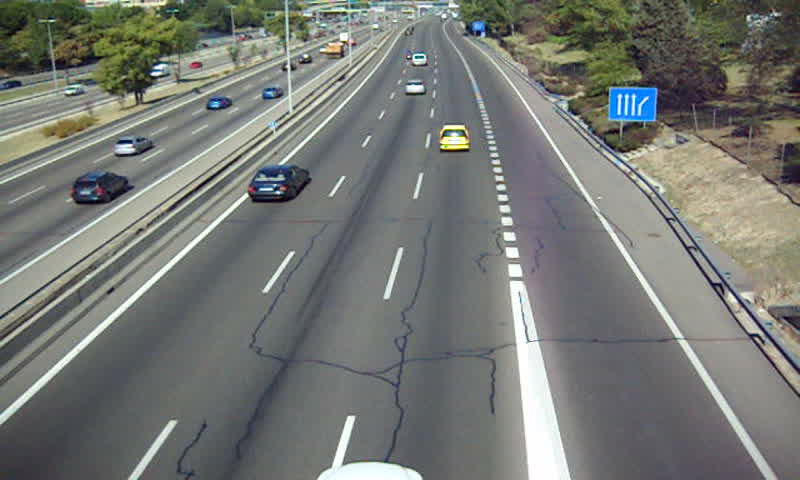car: (246, 166, 308, 202), (439, 124, 471, 151), (406, 78, 426, 96), (411, 52, 427, 66)
